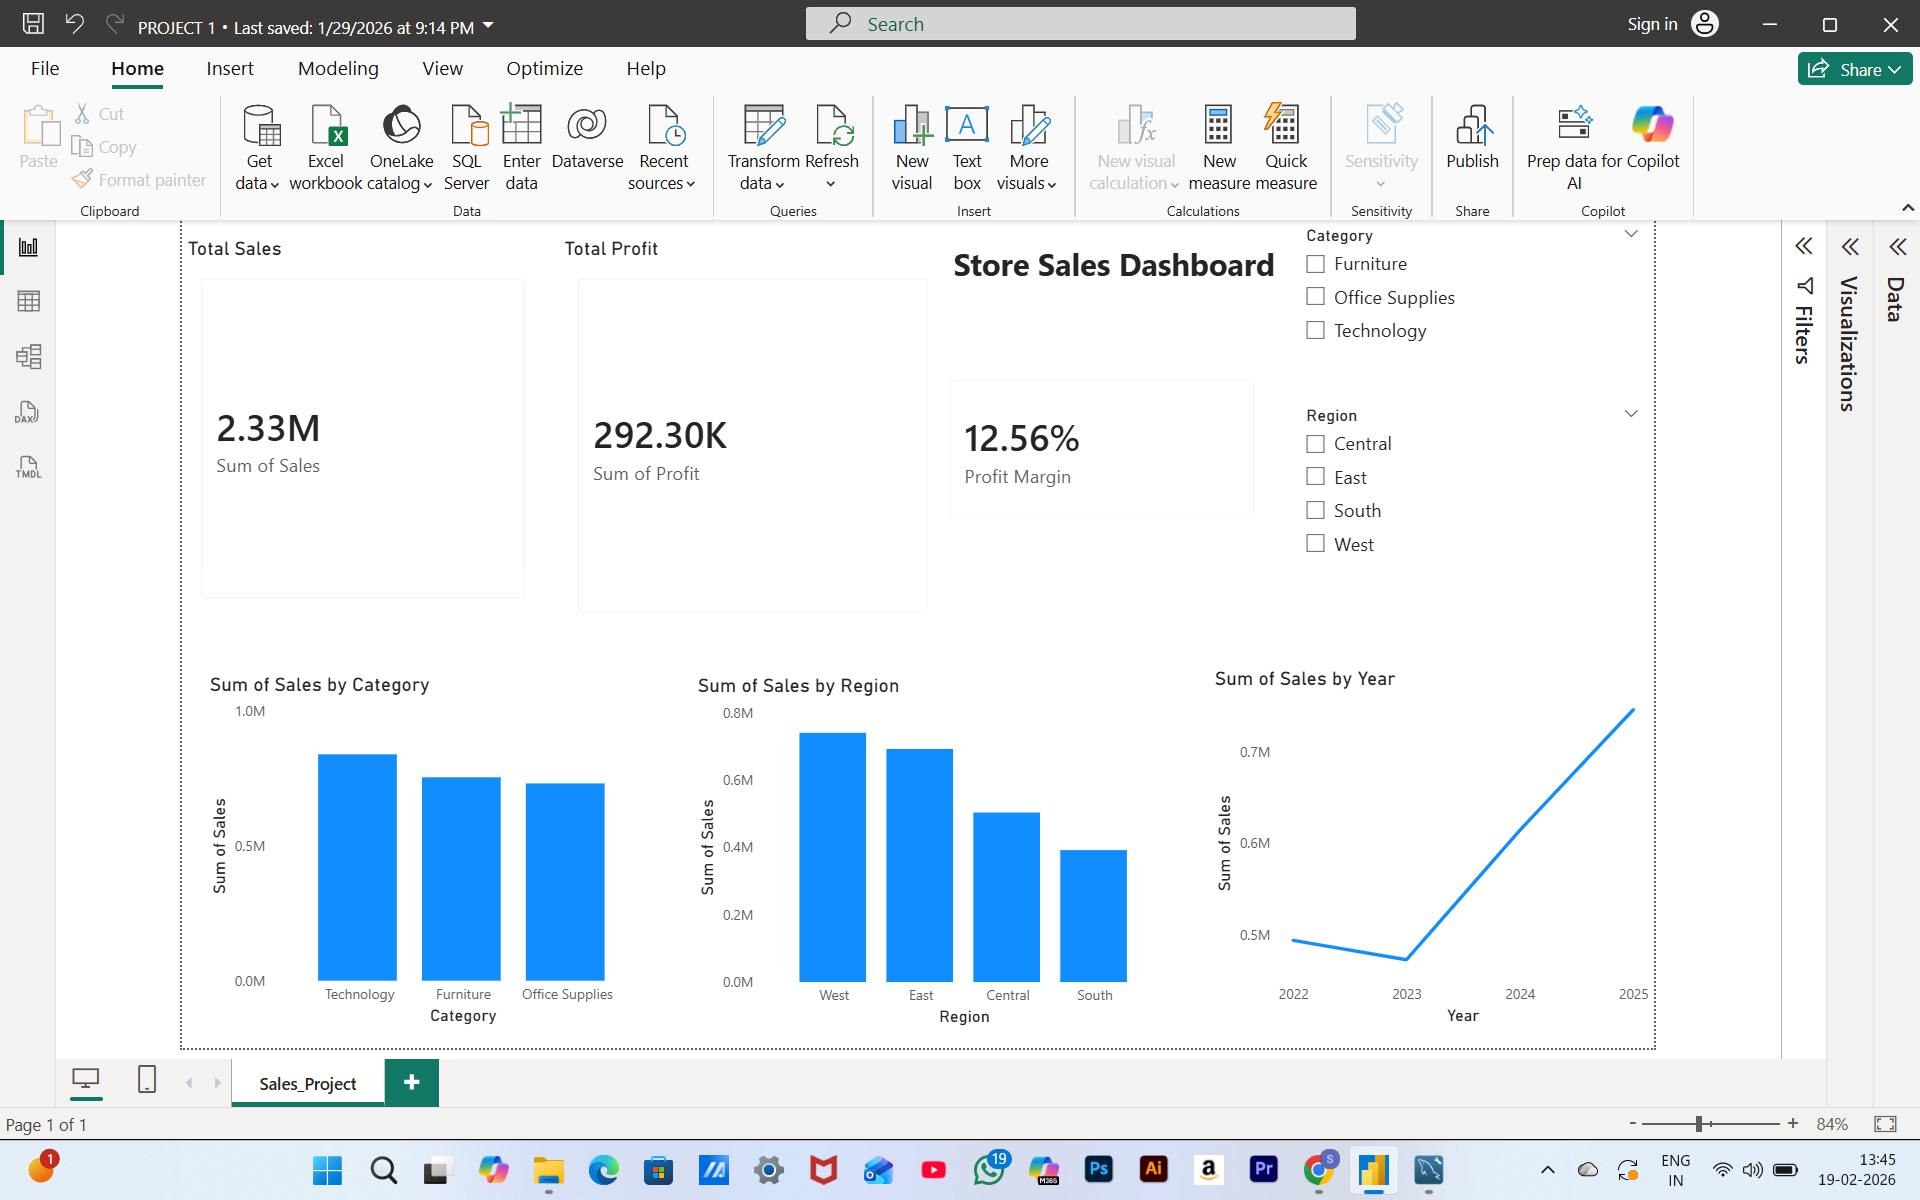

Layout of this report page (visuals, bound fields, positions):
{"tool":"powerbi","page":{"name":"Sales_Project","canvas":[1280,720],"ordinal":0},"visuals":[{"type":"cardVisual","title":"Total Sales","fields":{"Data":["Sum(Orders.Sales)"]},"box":[0,14.5,315.9,332],"z":0},{"type":"cardVisual","title":"Total Profit","fields":{"Data":["Sum(Orders.Profit)"]},"box":[327.2,14.5,338.5,344.9],"z":1000},{"type":"clusteredColumnChart","fields":{"Category":["Orders.Category"],"Y":["Sum(Orders.Sales)"]},"box":[19.3,393.3,393.3,311.1],"z":2000},{"type":"clusteredColumnChart","fields":{"Category":["Orders.Region"],"Y":["Sum(Orders.Sales)"]},"box":[443.2,394.9,415.8,311.1],"z":3000},{"type":"lineChart","fields":{"Category":["Orders.Order Date.Variation.Date Hierarchy.Year","Orders.Order Date.Variation.Date Hierarchy.Quarter","Orders.Order Date.Variation.Date Hierarchy.Month"],"Y":["Sum(Orders.Sales)"]},"box":[892.9,388.4,386.8,315.9],"z":4000},{"type":"slicer","fields":{"Values":["Orders.Category"]},"box":[965.4,0,314.3,122.5],"z":5000},{"type":"slicer","fields":{"Values":["Orders.Region"]},"box":[965.4,156.3,314.3,156.3],"z":6000},{"type":"textbox","box":[665.6,14.5,299.8,46.7],"z":7000},{"type":"cardVisual","fields":{"Data":["Orders.Profit Margin"]},"box":[651.1,122.5,299.8,154.7],"z":7001}]}

Visuals, with their boxes on the page's 1280x720 design canvas (x1, y1, x2, y2). These are canvas units, not pixel positions in the 1920x1200 screenshot, which may show the page scaled, cropped or inside an application window:
"Total Sales" cardVisual: rect(0, 14, 316, 346)
"Total Profit" cardVisual: rect(327, 14, 666, 359)
clusteredColumnChart - Orders.Category x Sum(Orders.Sales): rect(19, 393, 413, 704)
clusteredColumnChart - Orders.Region x Sum(Orders.Sales): rect(443, 395, 859, 706)
lineChart - Orders.Order Date.Variation.Date Hierarchy.Year x Orders.Order Date.Variation.Date Hierarchy.Quarter: rect(893, 388, 1280, 704)
slicer - Orders.Category: rect(965, 0, 1280, 122)
slicer - Orders.Region: rect(965, 156, 1280, 313)
textbox: rect(666, 14, 965, 61)
cardVisual - Orders.Profit Margin: rect(651, 122, 951, 277)
